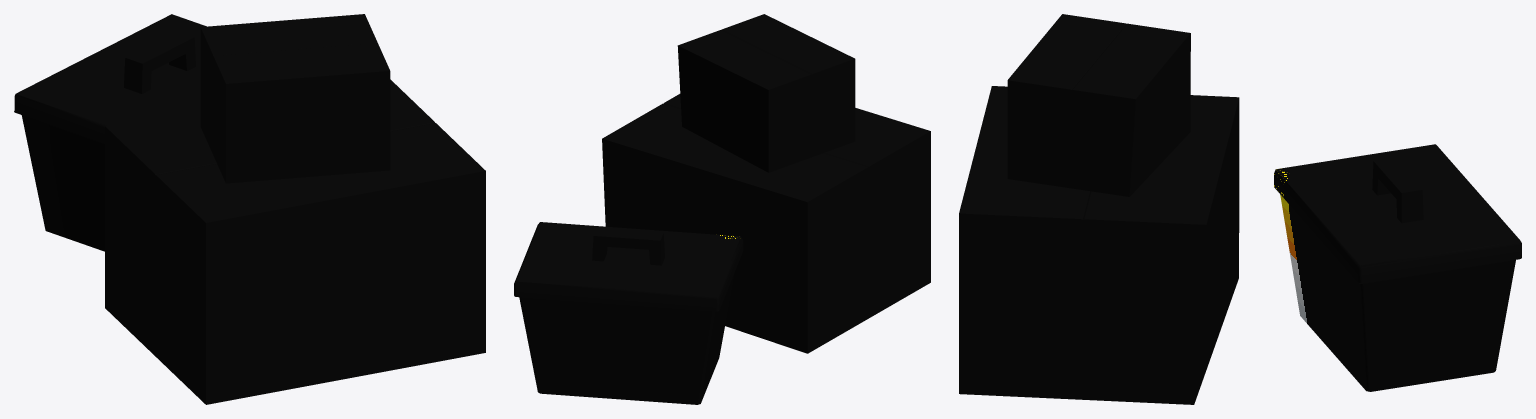
Rendered from korobki.fbx.
3 renders of one model, left to right at view 1: azimuth 30°, elevation 25°; view 2: azimuth 150°, elevation 25°; view 3: azimuth 270°, elevation 25°, orthographic. The views are drawn at different scales.
Parts seen in each view (by area): view 1: Cube.024, Cube.023; view 2: Cube.024, Cube.023; view 3: Cube.024, Cube.023.
Boxes of the visible parts, x1,y1,x2,y2 form: Cube.024: (105,14,485,404); Cube.023: (14,14,206,251); Cube.024: (602,14,930,353); Cube.023: (514,222,743,404); Cube.024: (959,14,1239,404); Cube.023: (1274,144,1521,391).
Size of the model in its own units: 70.22 by 65.84 by 120.
